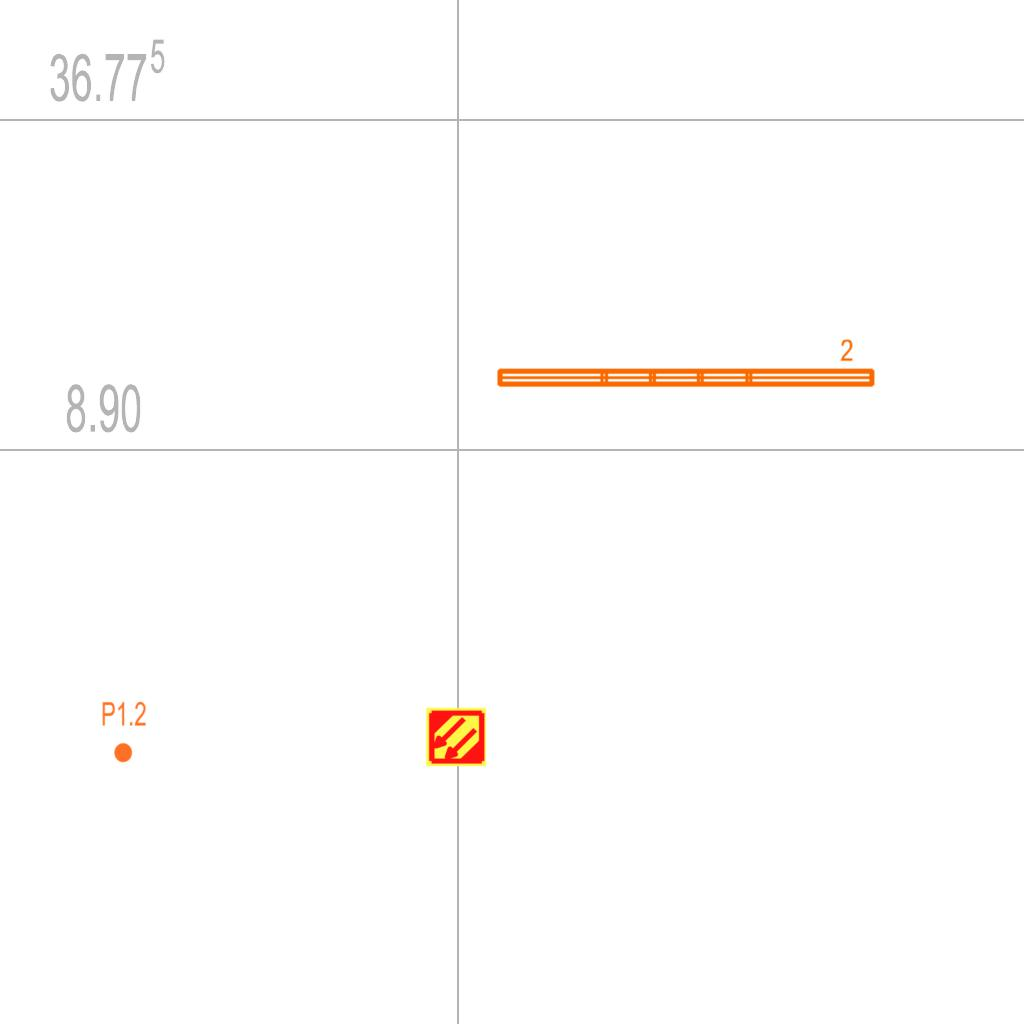ASR_Ansaugrauchmelder: (425, 706, 487, 768)
Ambulanz_Pendelleuchte_LED: (492, 337, 879, 393)
Downlight_LED_Einbauleuchten_Flur: (101, 700, 147, 764)
